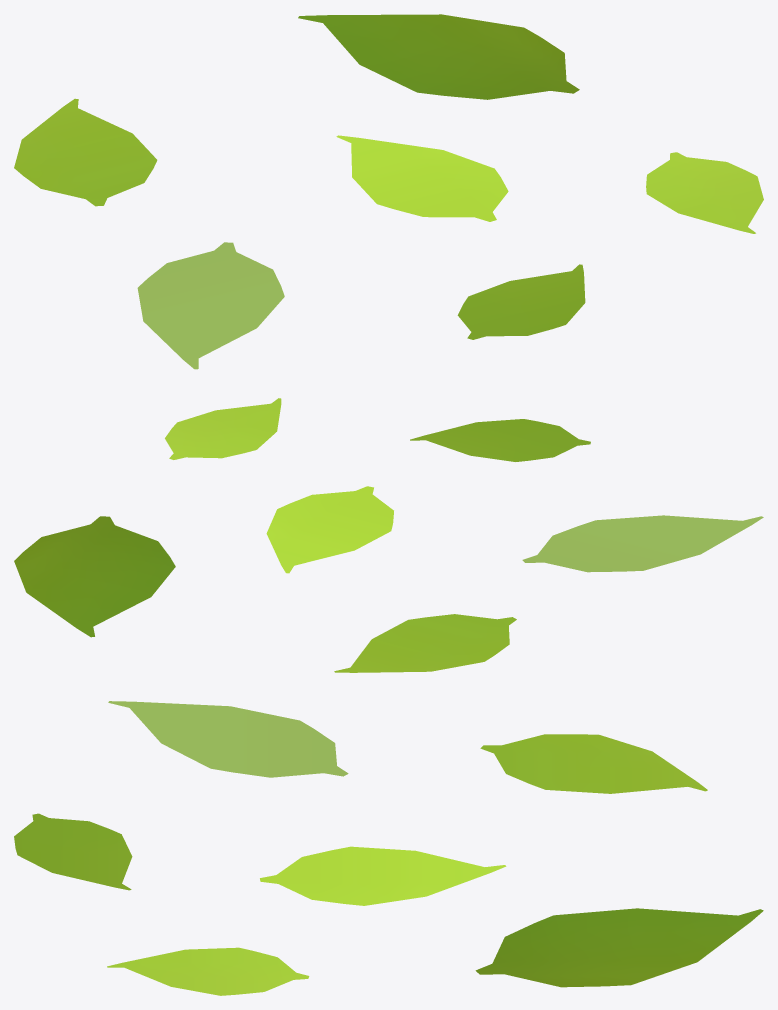
File: fallen-leaves.glb
The picture shows the model from 3 angles, top to bottom: view 1: azimuth 30°, elevation 25°; view 2: azimuth 150°, elevation 25°; view 3: azimuth 270°, elevation 25°; orthographic projection. The views are drawn at different scales.
Parts seen in each view (by area): view 1: fallen_leaves; view 2: fallen_leaves; view 3: fallen_leaves.
Boxes of the visible parts, bbox=[...] form: fallen_leaves: bbox=[14, 14, 763, 369]; fallen_leaves: bbox=[14, 398, 763, 672]; fallen_leaves: bbox=[14, 701, 763, 995].
Size of the model in its own units: 2.92 by 4.48e-08 by 3.14.
Materials: 1 (1 with a texture image).
